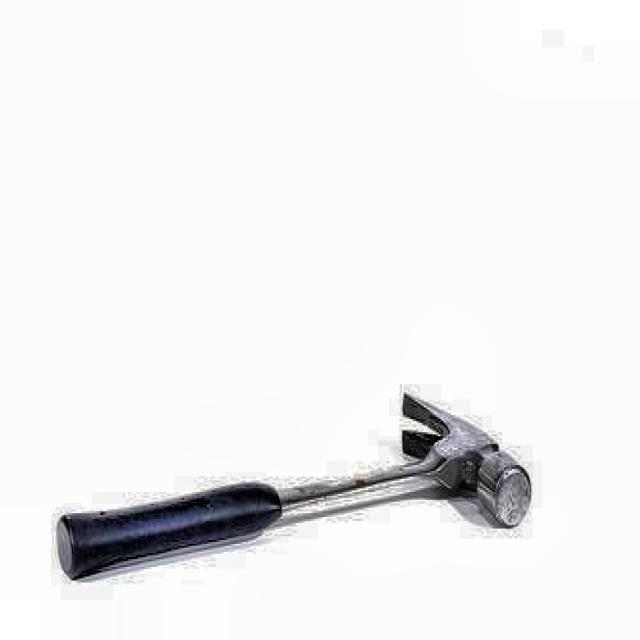hammer: (55, 391, 533, 581)
